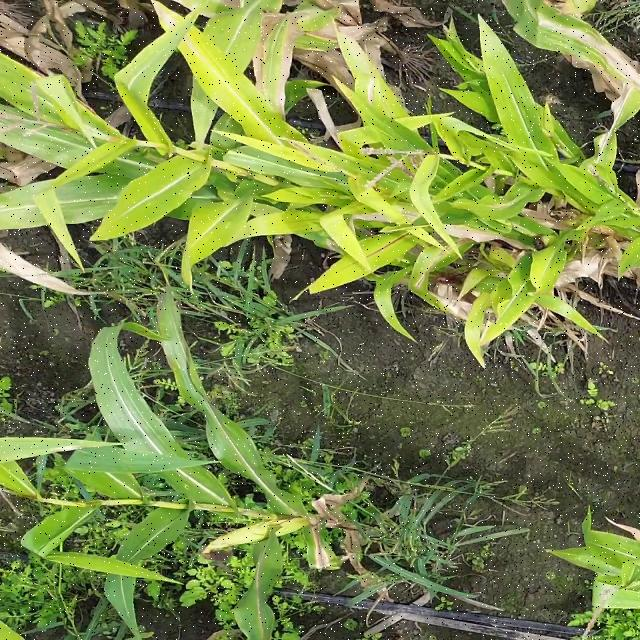northern-leaf-blight: (528, 14, 640, 54), (403, 243, 452, 289), (598, 100, 628, 158), (304, 532, 340, 573), (357, 75, 396, 108)
